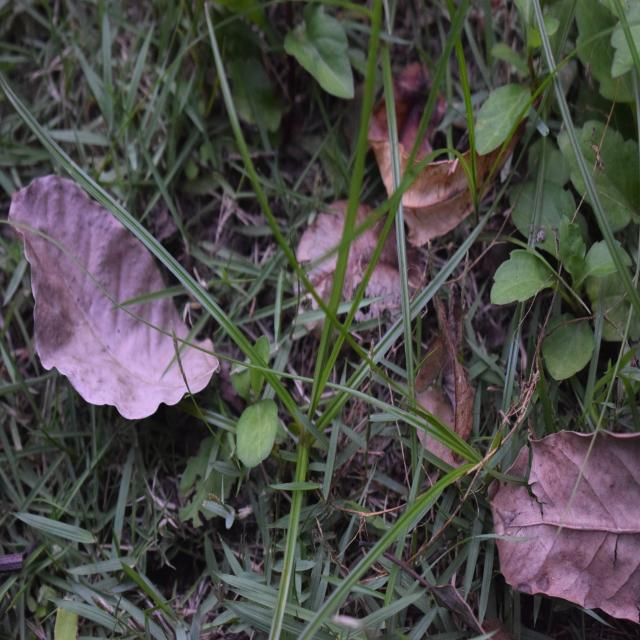sedge: (101, 0, 436, 557)
